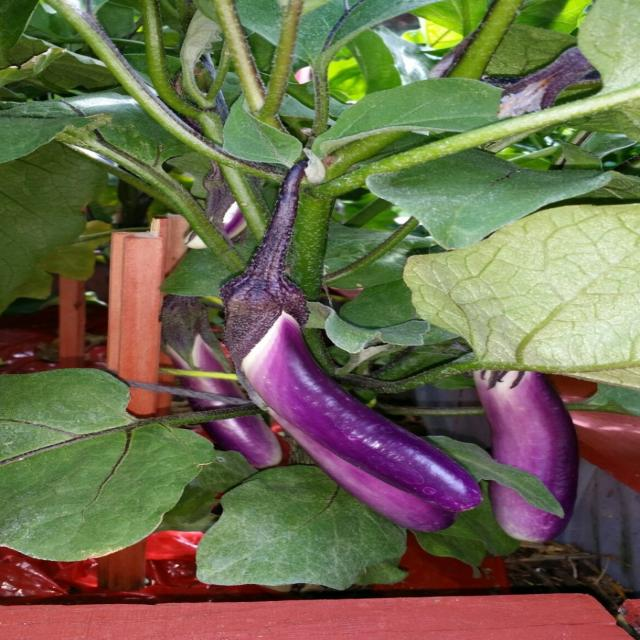Eggplant: (183, 166, 472, 566), (457, 290, 604, 559), (149, 307, 262, 487)
